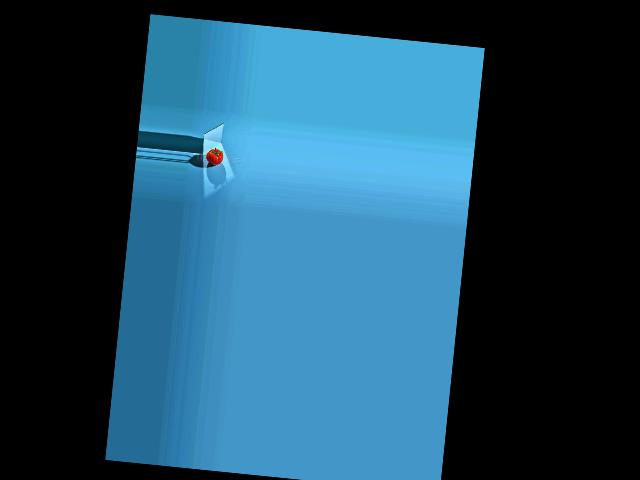tomato: (205, 147, 223, 165)
